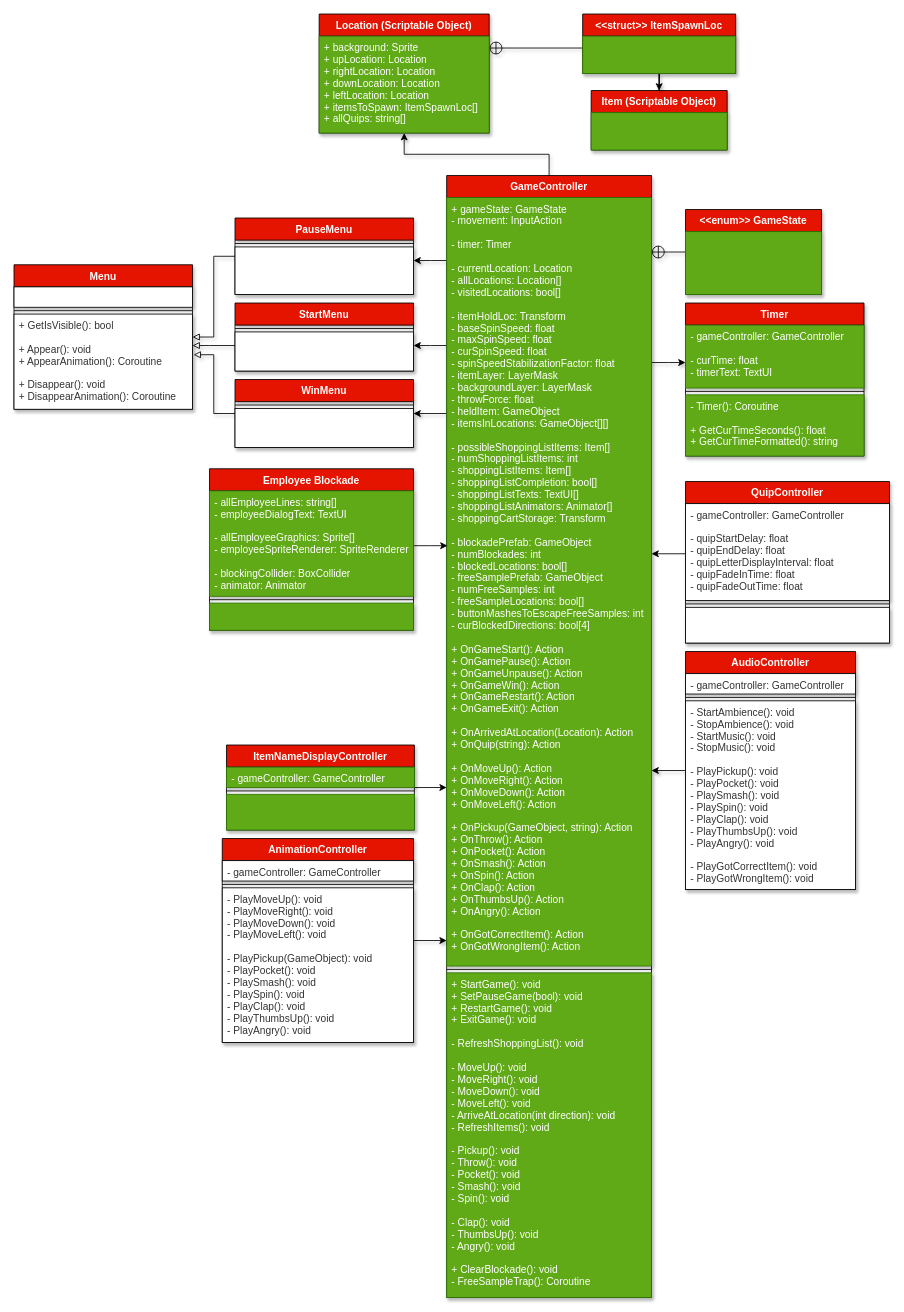
Some shapes in this 904 by 1312 pixel diagram are drawn without their labels. Each missing label, with the centre of its shape:
"+ Continue(): void + RestartGame(): void + ExitGame(): void" goes at pixel 325 271.
"+ item: Item + spawnLoc: Vector2" goes at pixel 659 55.
"+ itemObject: GameObject + itemName: string" goes at pixel 659 132.
"+ RestartGame(): void + ExitGame(): void" goes at pixel 325 428.
"+ StartGame(): void + ExitGame(): void" goes at pixel 325 352.
"- DisplayItemName(string): void - HideItemName(): void" goes at pixel 320 813.
"- DisplayQuip(string): void - DisplayQuipAnimation(string): Coroutine" goes at pixel 788 626.
"- HitByItem(): void" goes at pixel 312 617.
"- visible: bool" goes at pixel 104 298.
"Playing StartMenu PauseMenu WinMenu" goes at pixel 754 263.
